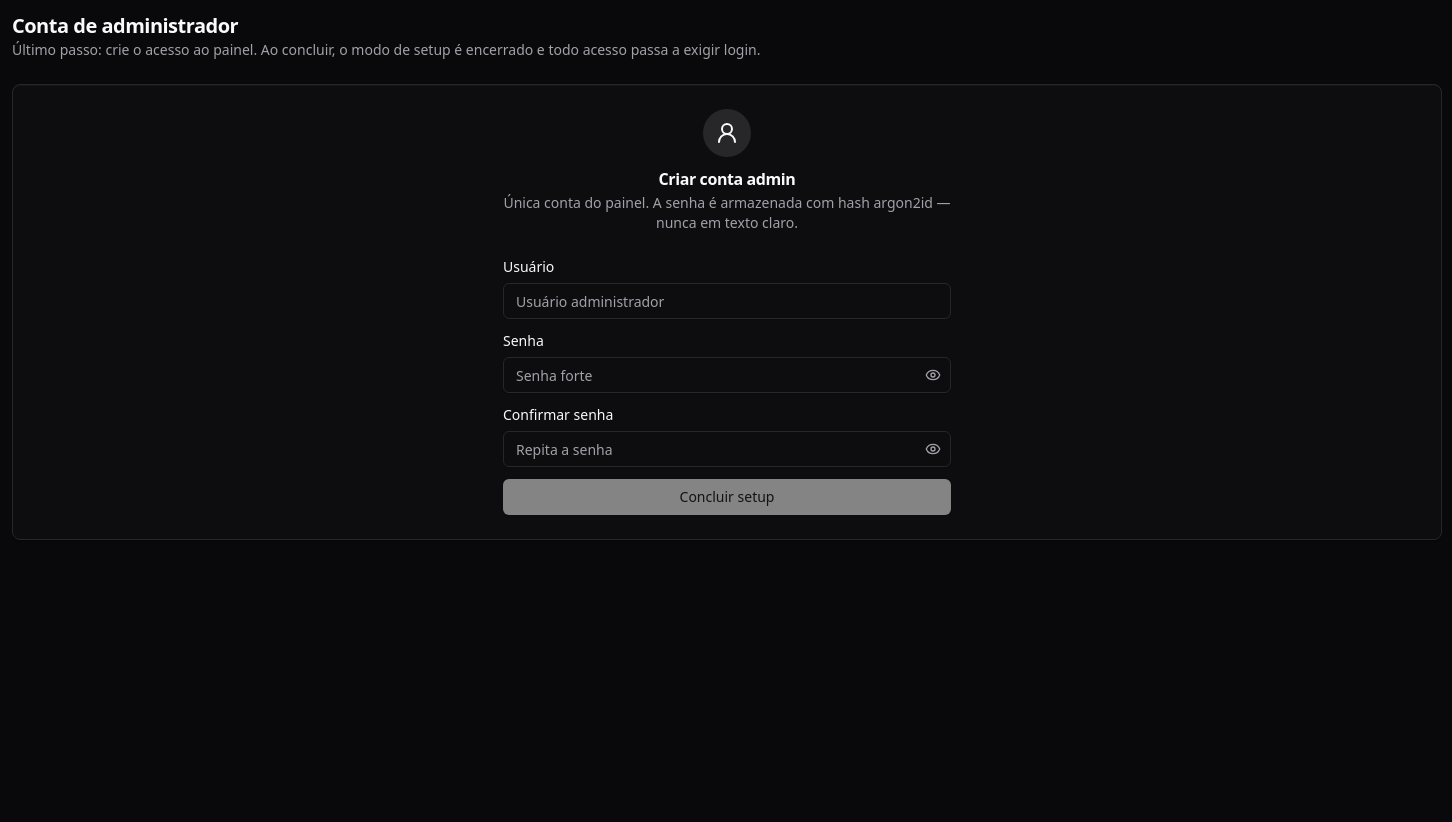
Test: AdminStep (Passo 4 do wizard) › 409 admin_exists → exibe a mensagem da API
The width and height of the screenshot is (1452, 822).
Type "admin" into the field labelled "Usuário". click: {"x": 727, "y": 301}
box: [503, 283, 951, 319]
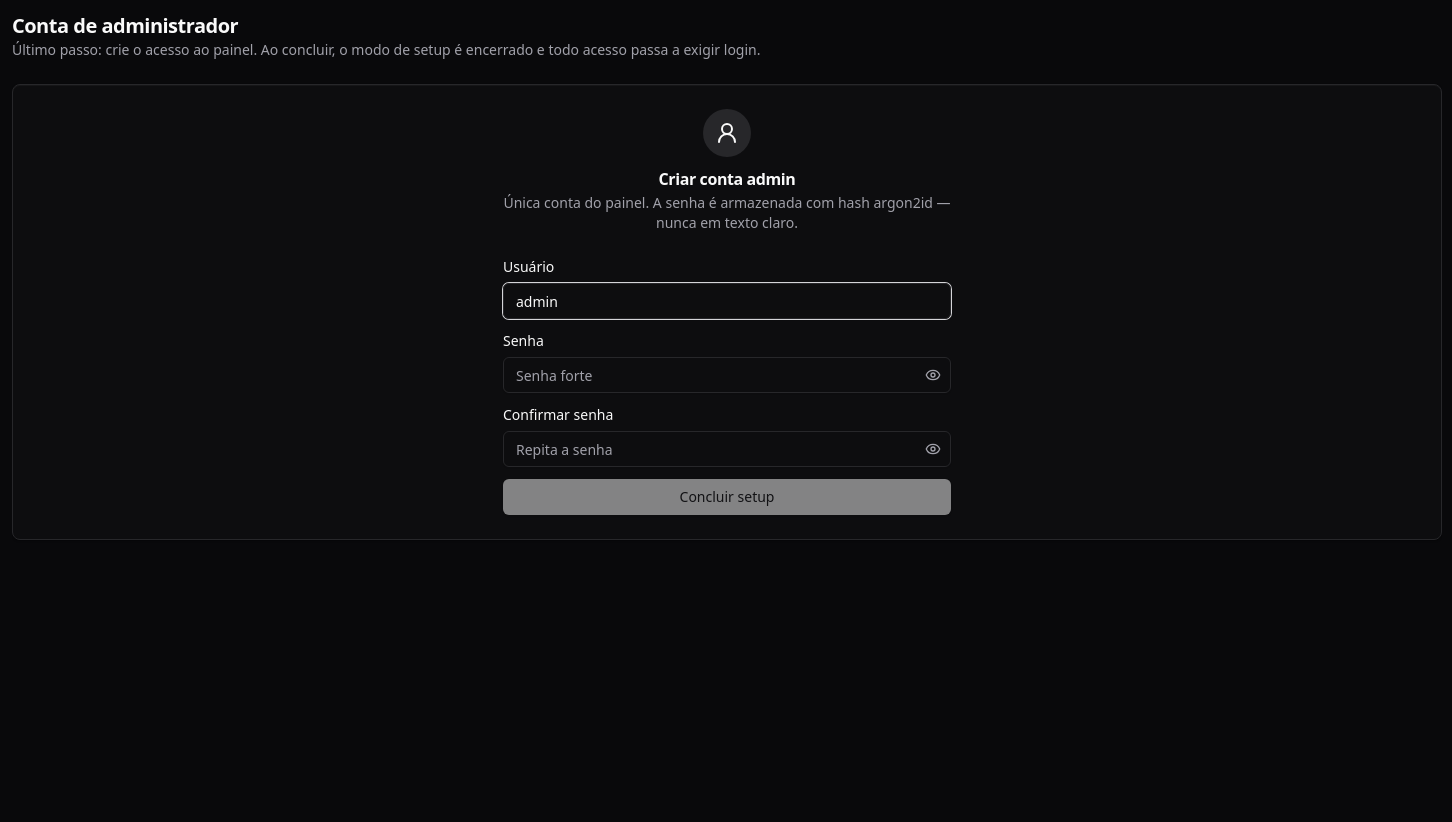
Type "MinhaSenha123" into the password field labelled "Senha". click: {"x": 727, "y": 375}
box: [503, 357, 951, 393]
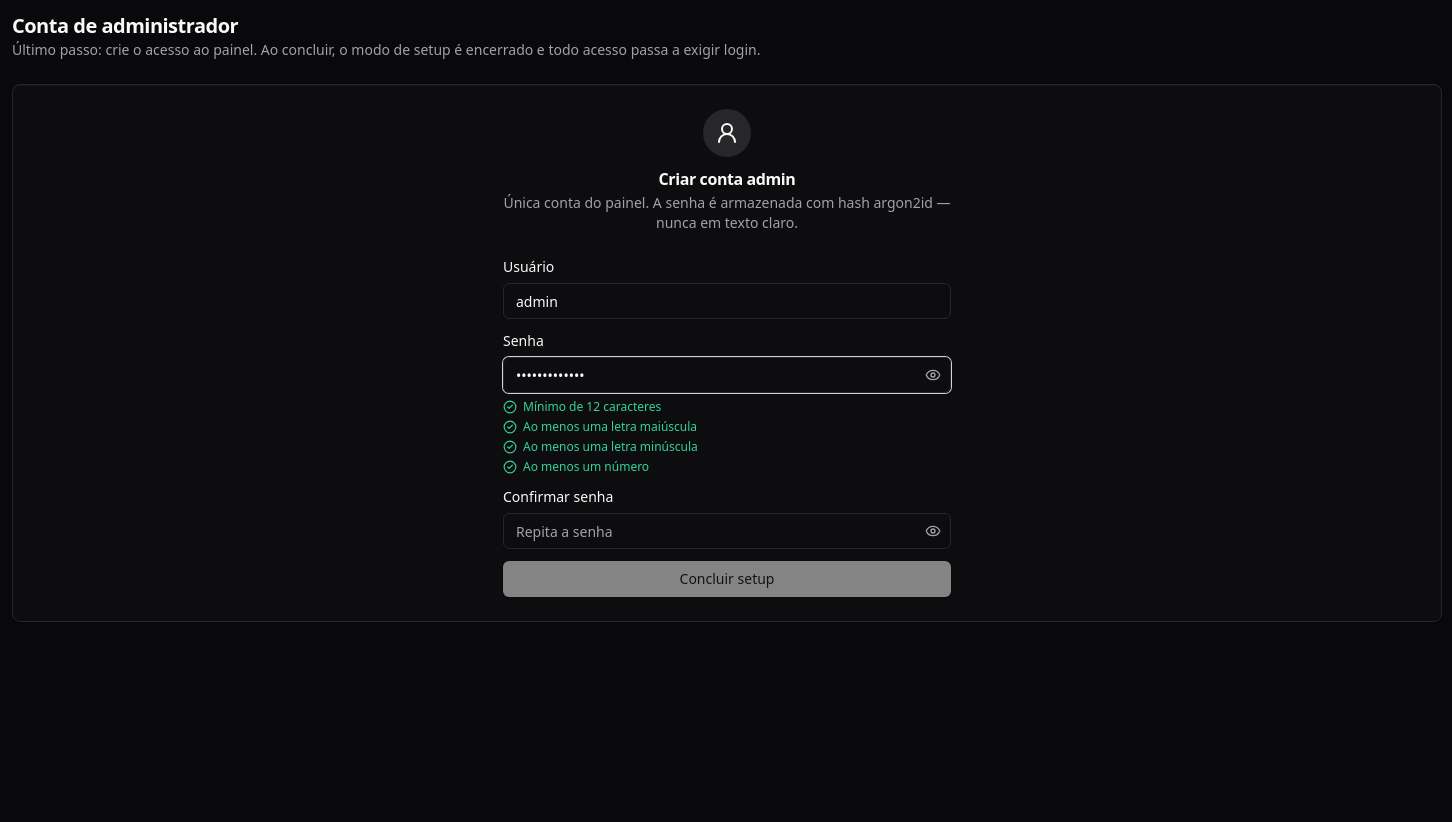
Type "MinhaSenha123" into the password field labelled "Confirmar senha". click: {"x": 727, "y": 531}
box: [503, 513, 951, 549]
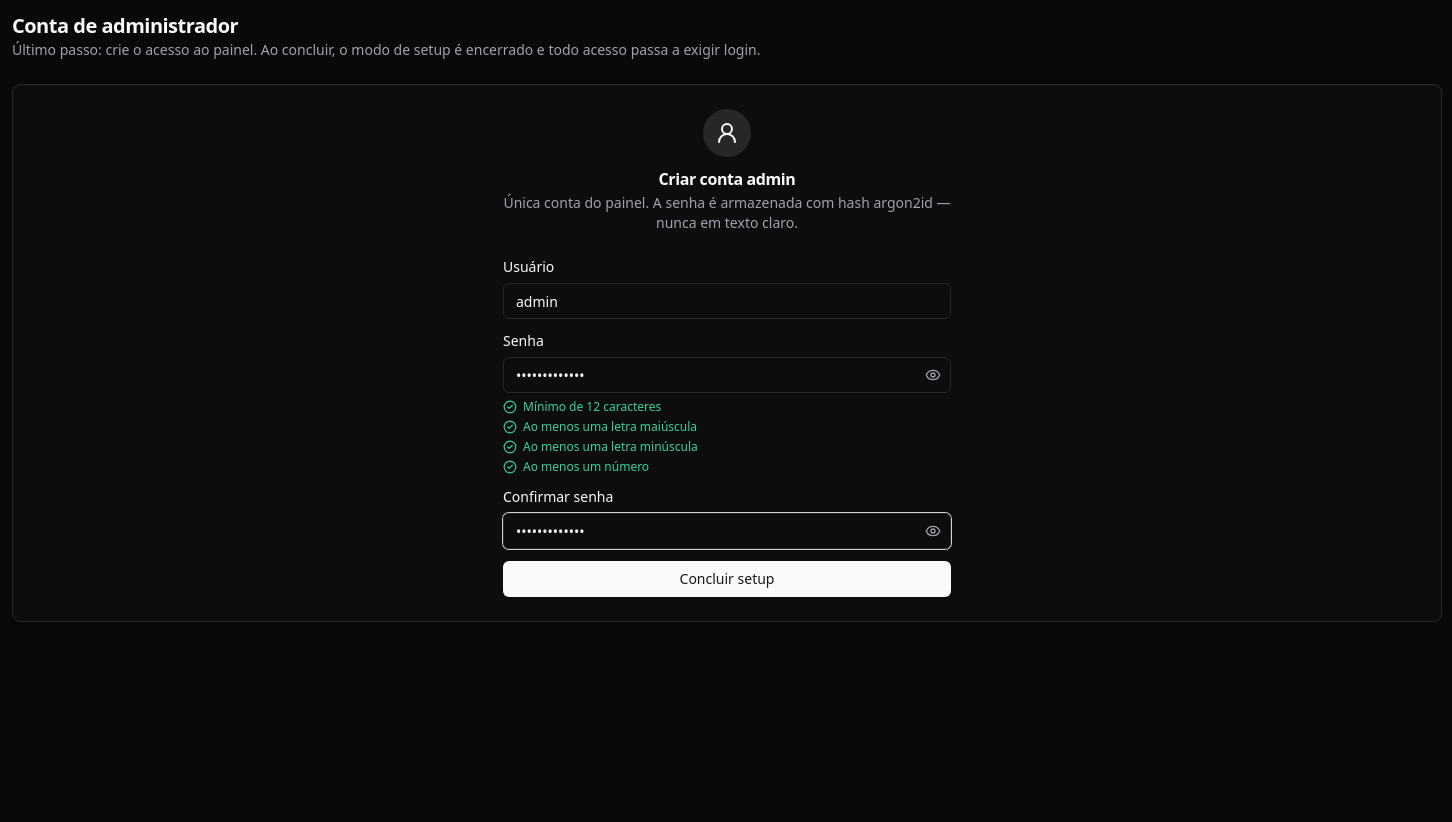
Click the button "Concluir setup". click: {"x": 727, "y": 579}
box: [503, 561, 951, 597]
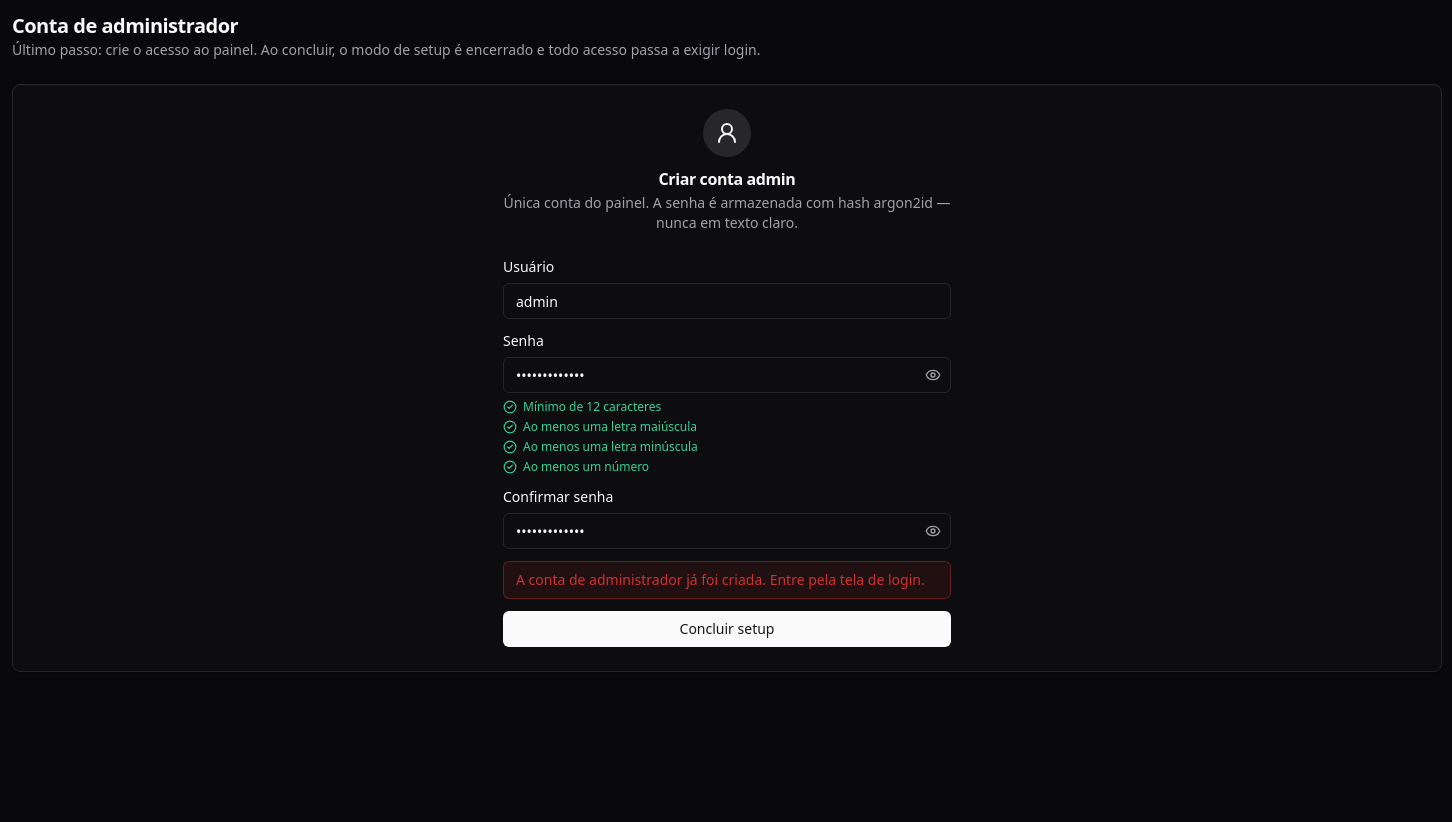
expect the message shows "já foi criada": met, box [516, 570, 925, 589]
